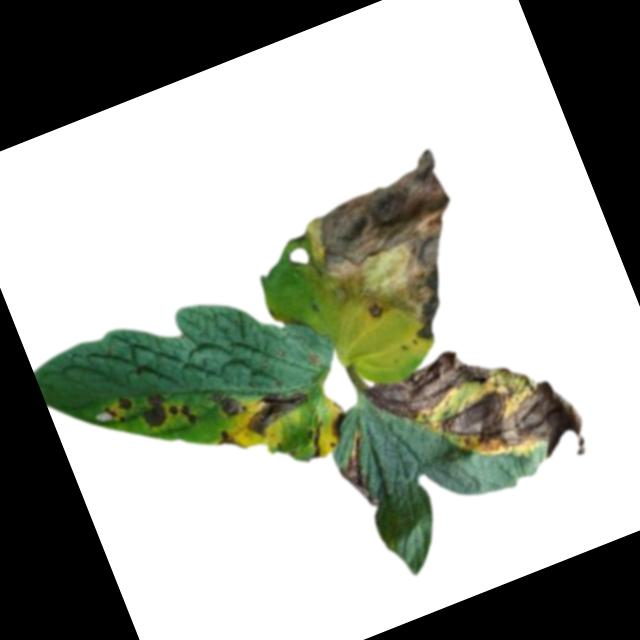Early_blight: (285, 144, 497, 372), (416, 361, 597, 508), (363, 330, 512, 431), (326, 429, 388, 516), (238, 379, 315, 441), (136, 391, 175, 435), (206, 385, 244, 425), (100, 392, 138, 428), (210, 424, 245, 459), (167, 397, 200, 433), (324, 411, 351, 441)
